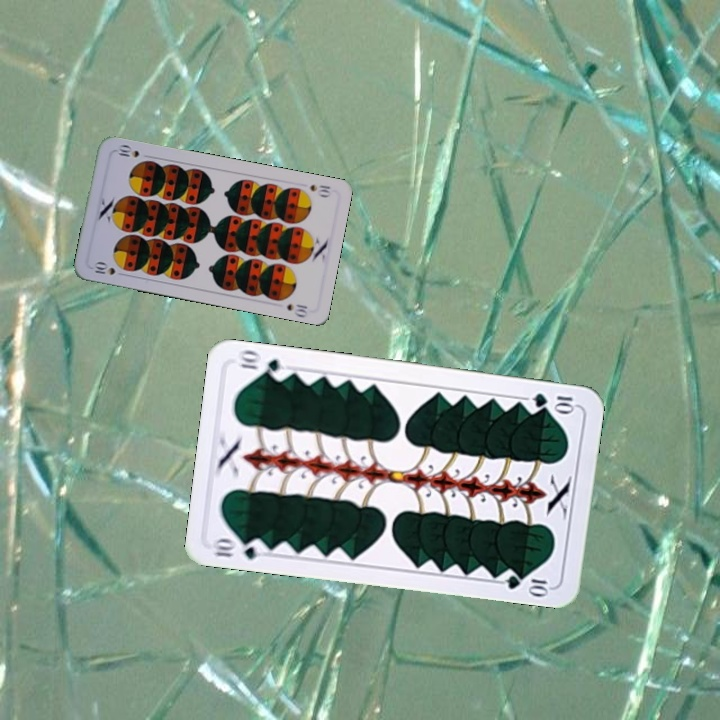G10: (209, 534, 269, 562), (528, 389, 578, 415)
S10: (90, 258, 128, 278), (306, 180, 333, 200)
